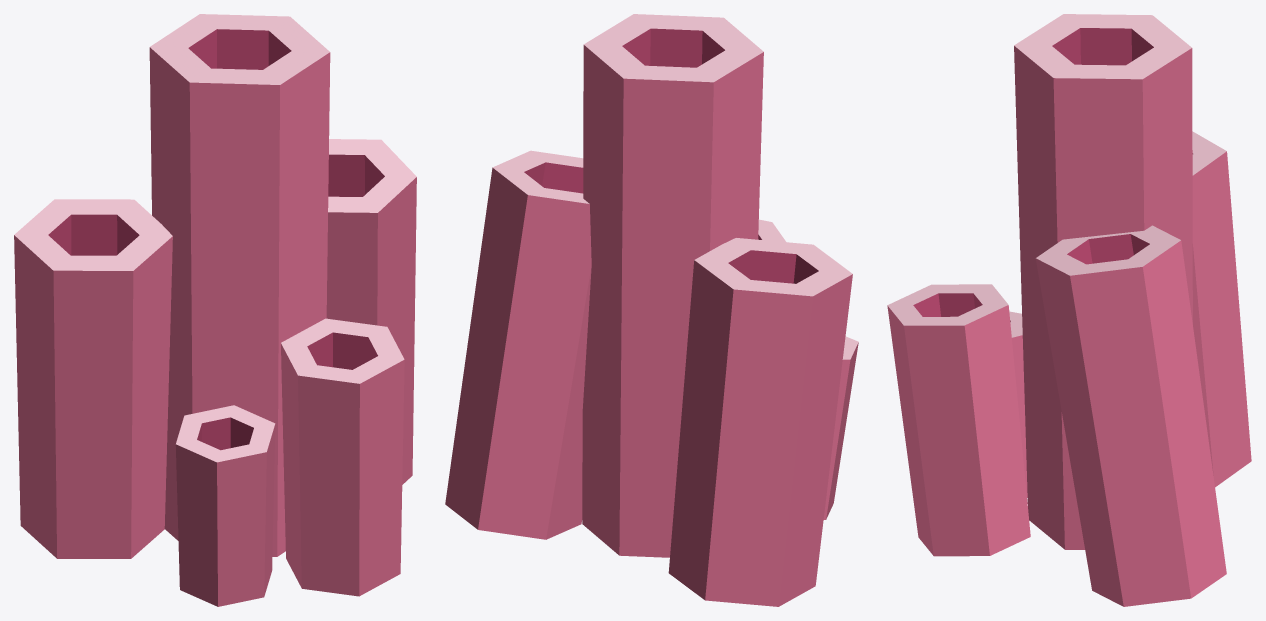
File: coral_tube_pink.fbx
3 views of the same model, side by side, from view 1: azimuth 30°, elevation 25°; view 2: azimuth 150°, elevation 25°; view 3: azimuth 270°, elevation 25° (orthographic).
Visible parts, largest first — view 1: coral_tube_pink; view 2: coral_tube_pink; view 3: coral_tube_pink.
Boxes of the visible parts, x1,y1,x2,y2 form: coral_tube_pink: (14, 14, 416, 606); coral_tube_pink: (445, 14, 858, 606); coral_tube_pink: (887, 14, 1251, 606).
Size of the model in its own units: 430 by 547 by 374.
1 material, 1 textured.
